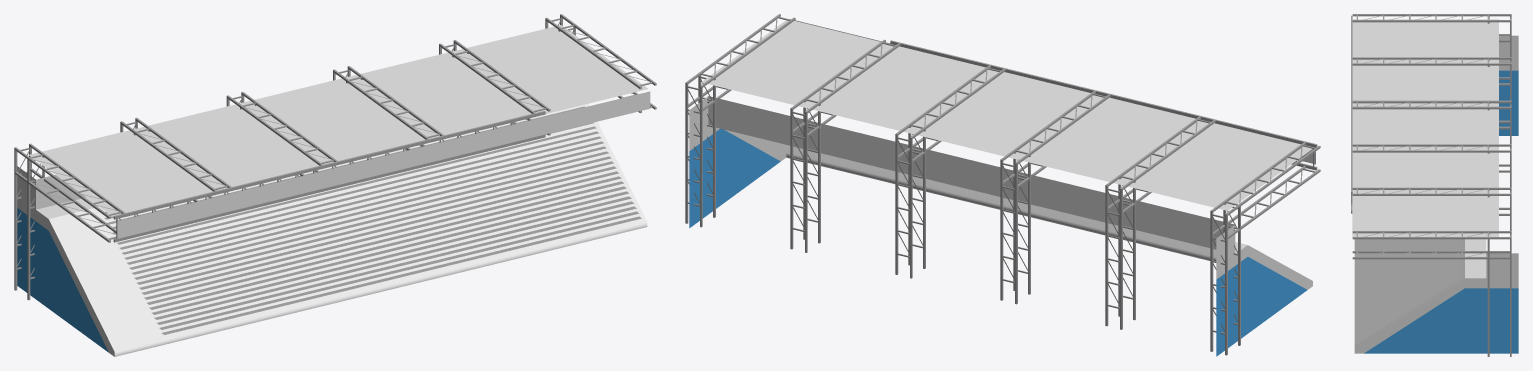
File: stadium.fbx
3 views of the same model, side by side, from view 1: azimuth 30°, elevation 25°; view 2: azimuth 150°, elevation 25°; view 3: azimuth 270°, elevation 25° (orthographic). The views are drawn at different scales.
Visible parts, largest first — view 1: polySurface9; view 2: polySurface9; view 3: polySurface9.
Boxes of the visible parts, x1,y1,x2,y2 form: polySurface9: [14, 14, 656, 356]; polySurface9: [685, 14, 1320, 356]; polySurface9: [1351, 14, 1518, 356].
Bounding box in the file's own units: 1.09 × 0.2697 × 0.3468.
